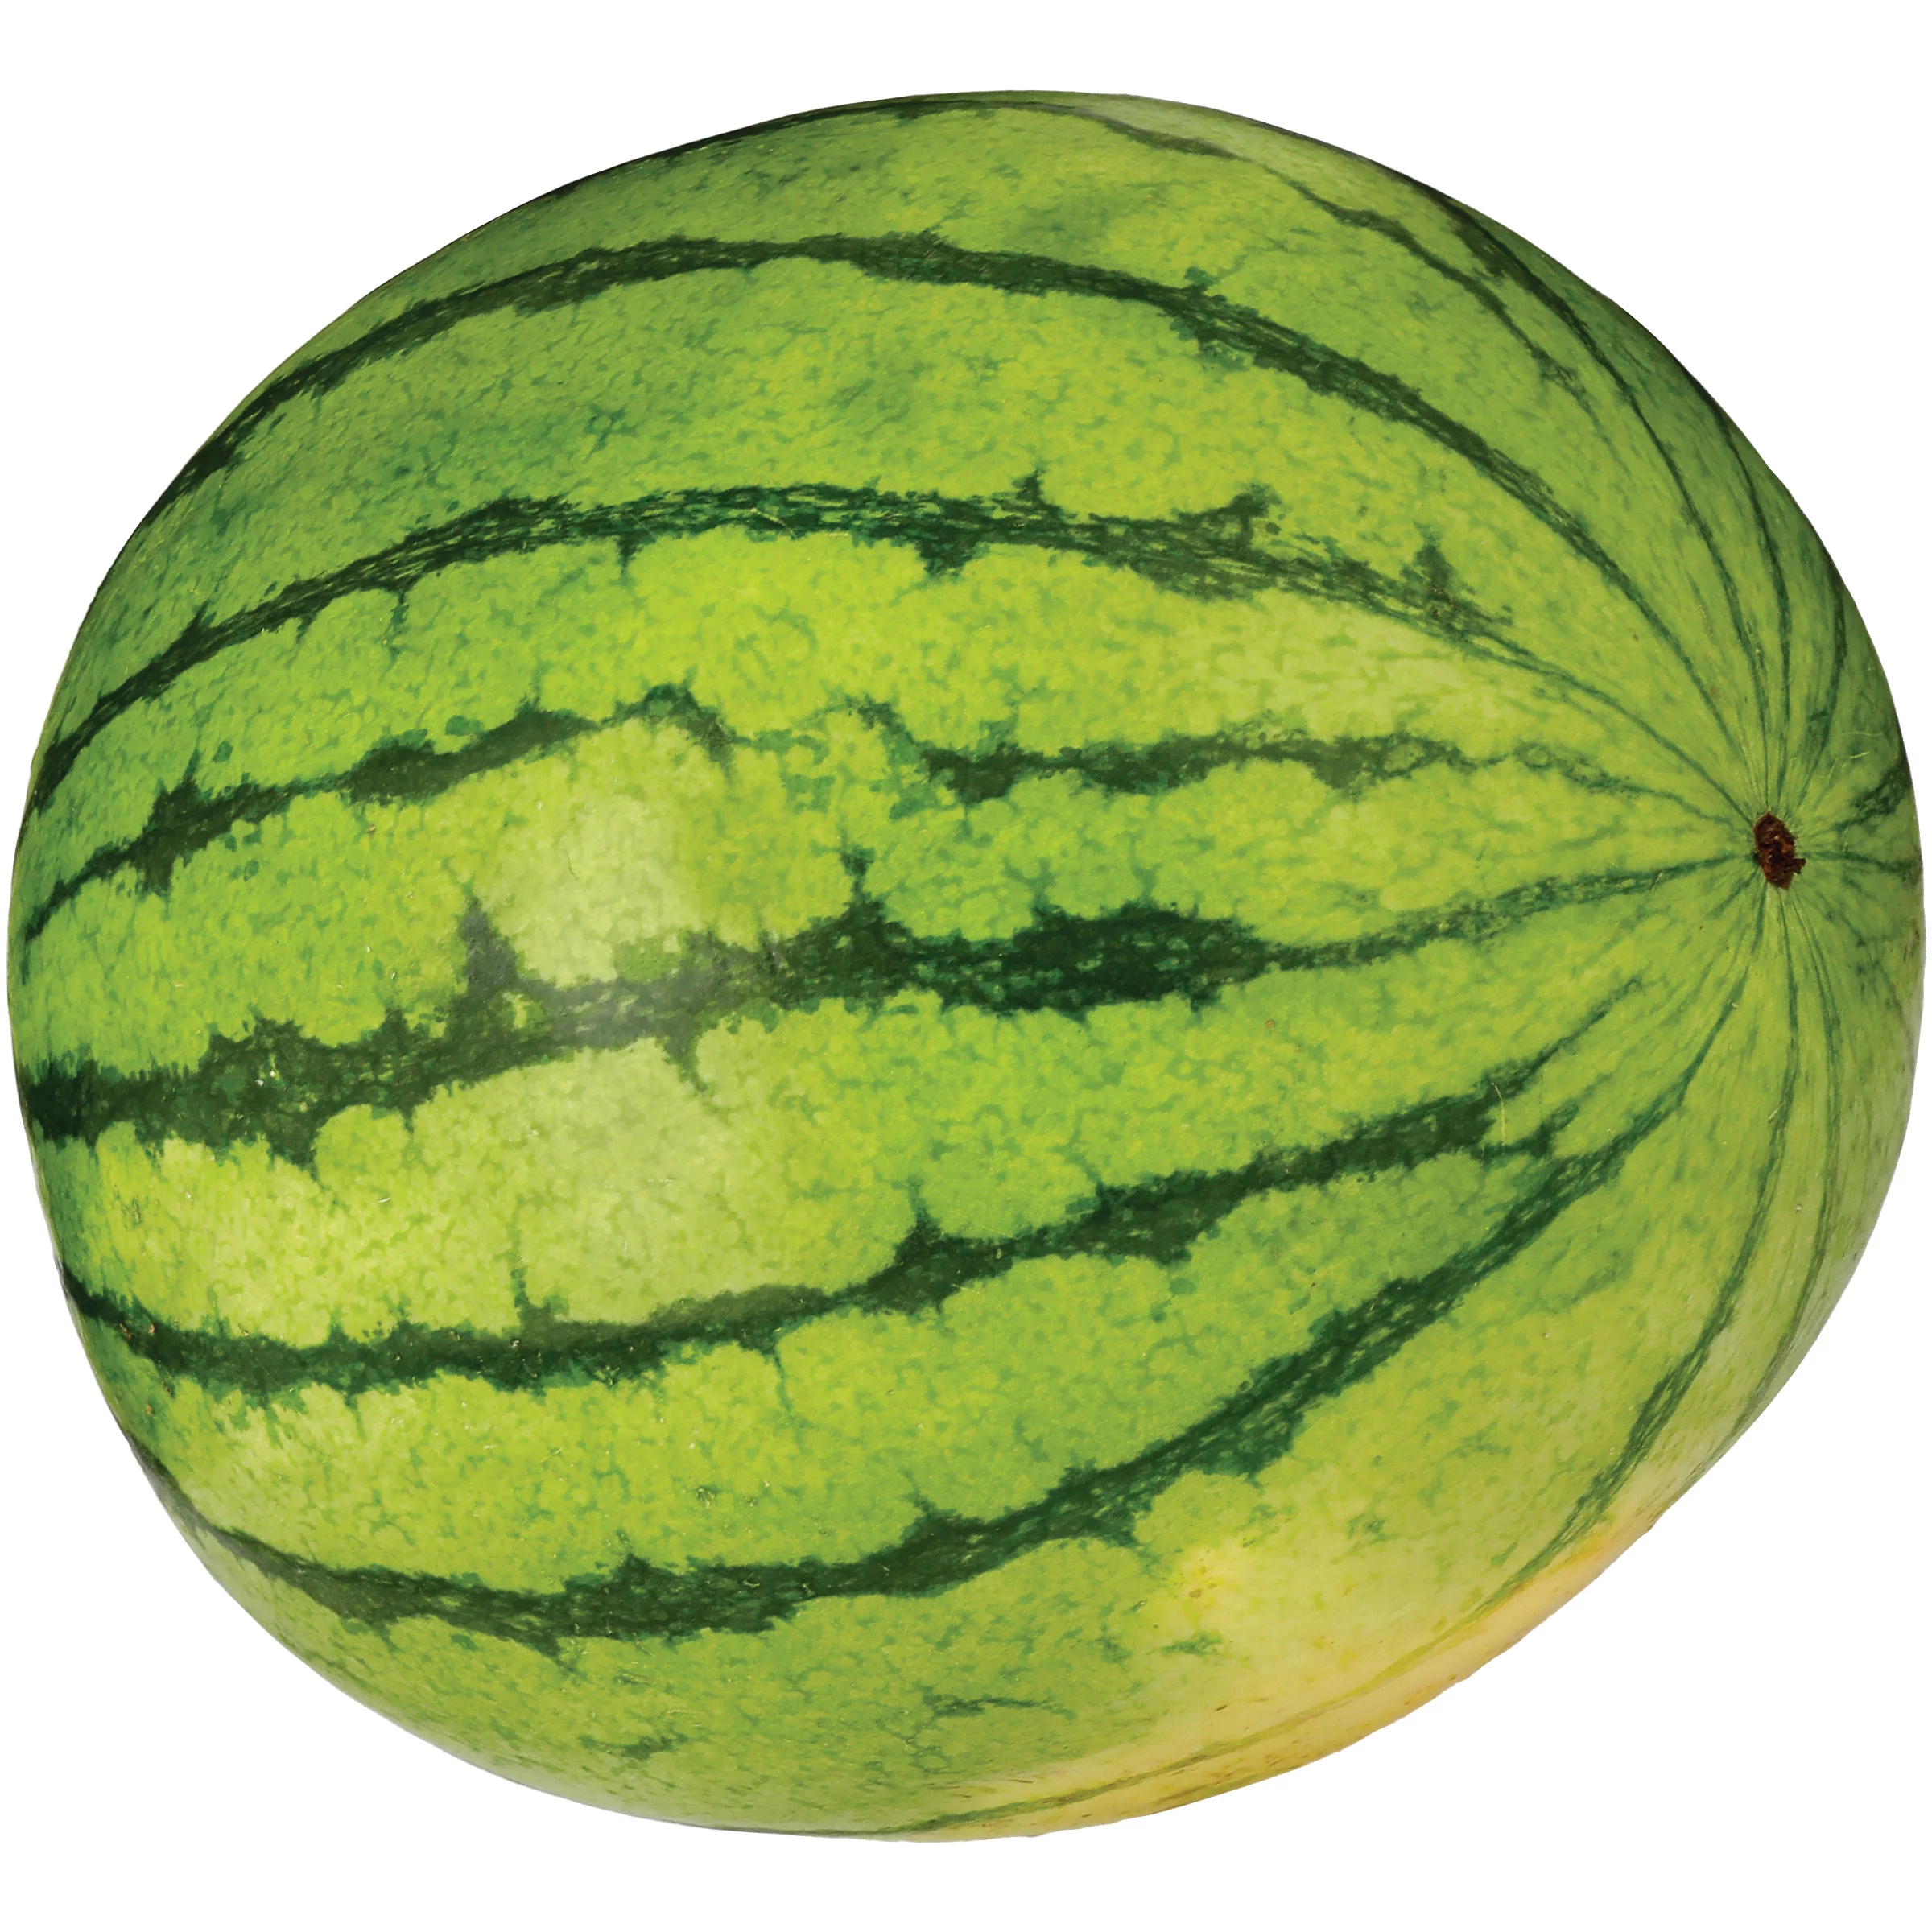watermelon: (19, 92, 1920, 1849)
